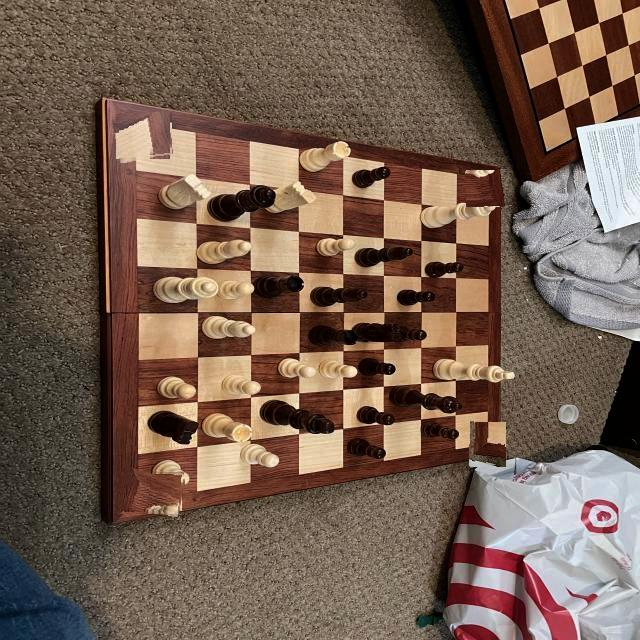chess-table-corners: (117, 469, 184, 514), (114, 112, 172, 161), (466, 169, 512, 207), (470, 422, 506, 467)
